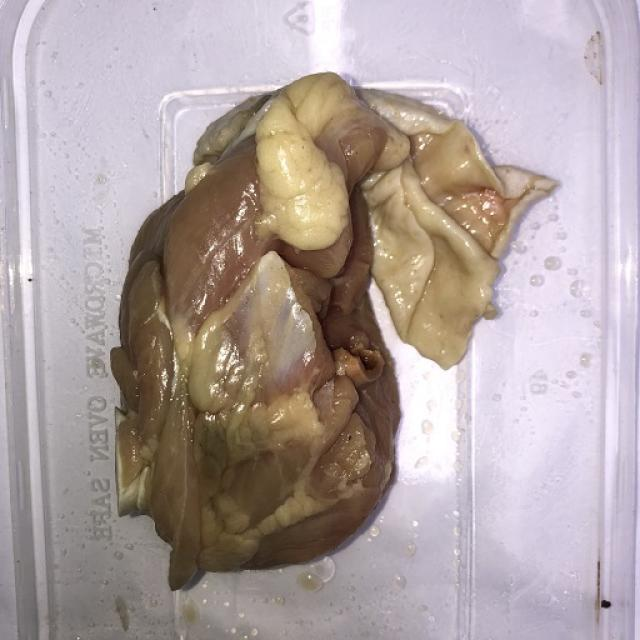chicken: (88, 53, 564, 599)
